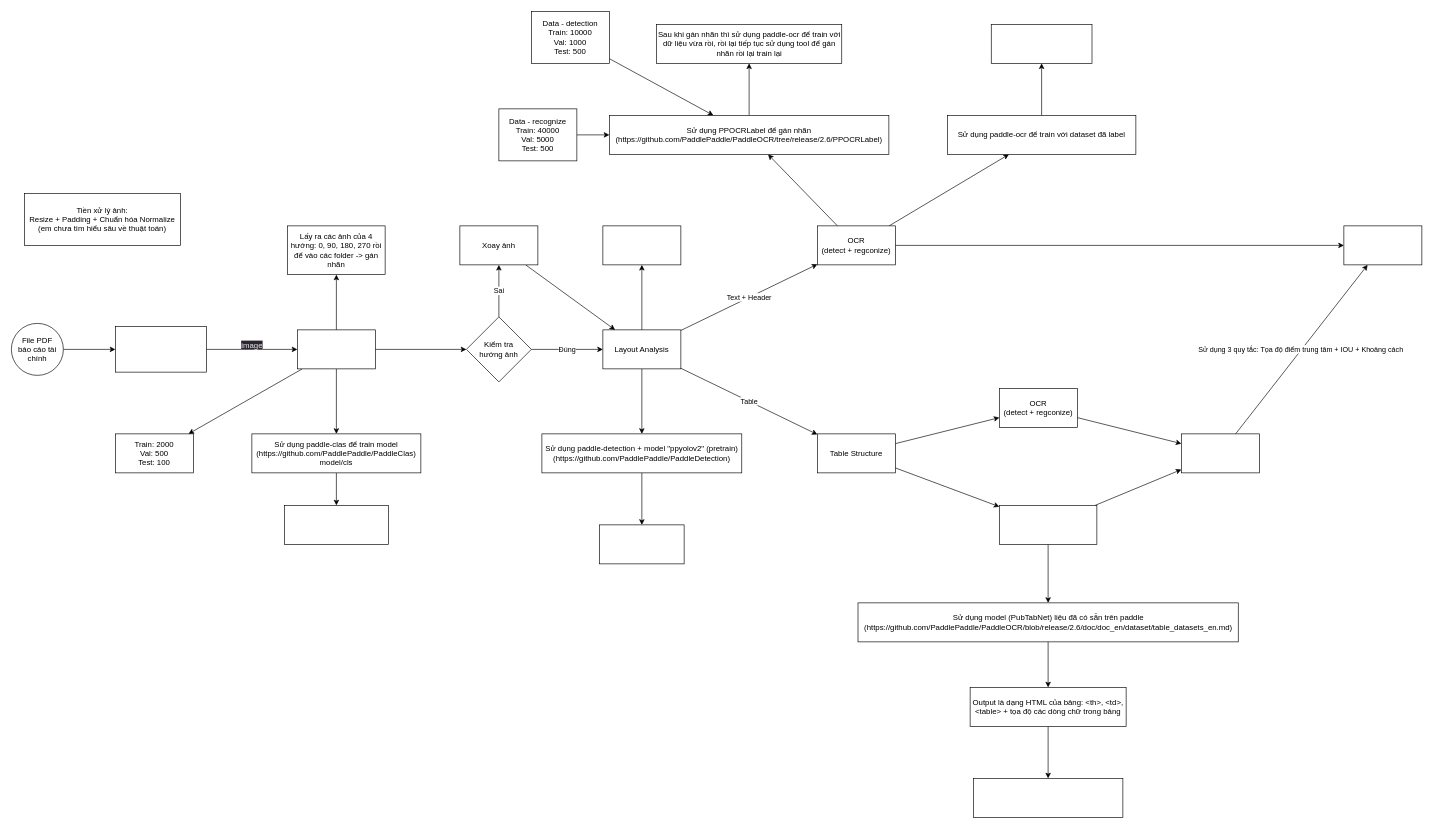
The diagram is 1433 pixels wide and 829 high, and some of its shapes have lost their labels. Each missing label, with the box of its shape:
Image Direction (Model): (297, 329, 375, 369)
Khôi phục bảng: (1181, 433, 1259, 473)
Khôi phục docs: (1343, 225, 1422, 265)
pdf2image (convert pdf -> image): (115, 326, 206, 372)
So sánh với các tọa độ detect được trong phần OCR để thay thế và khôi phục lại: (973, 778, 1123, 817)
Sử dụng DBNet để phát hiện các dòng văn bản: (991, 24, 1092, 63)
Sử dụng labelImg để gán nhãn: (602, 225, 681, 265)
Sử dụng model PULC để phân loại hướng: (284, 505, 388, 544)
Sử dụng mạng RCNN: (599, 524, 684, 564)
Table Structure Analysis: (999, 505, 1097, 544)
